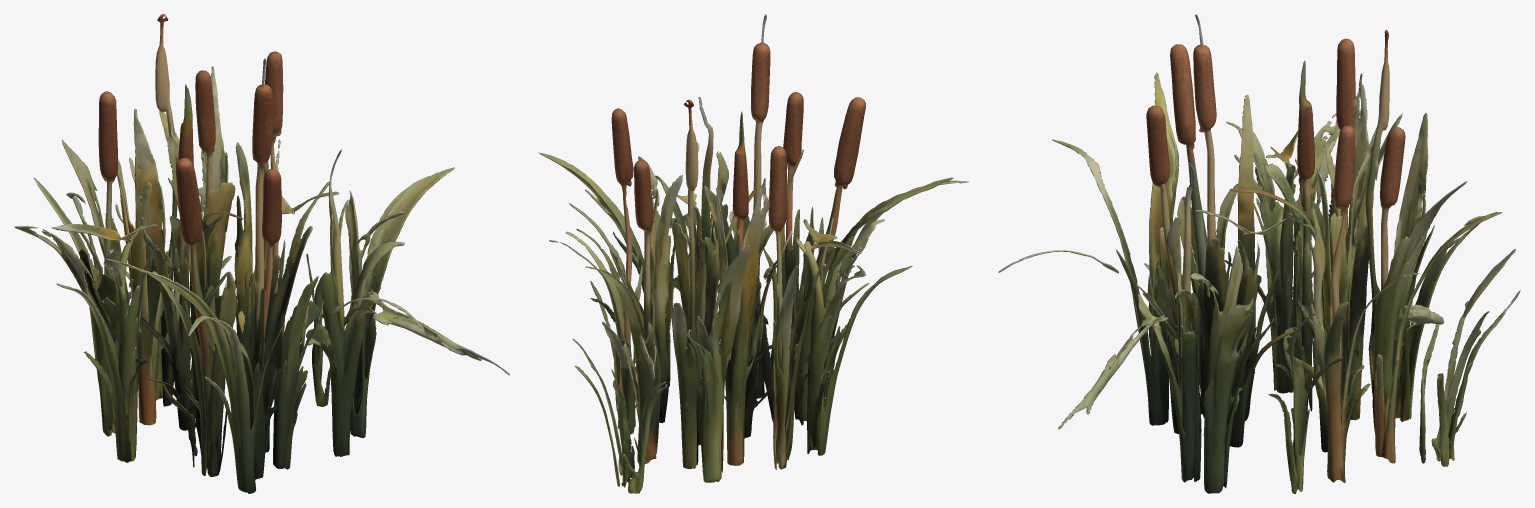
File: nature-reeds.glb
3 views of the same model, side by side, from view 1: azimuth 30°, elevation 25°; view 2: azimuth 150°, elevation 25°; view 3: azimuth 270°, elevation 25° (orthographic). The views are drawn at different scales.
Parts seen in each view (by area): view 1: tripo_node_be8c20d6-02ec-4e5e-b019-4e58db89057b; view 2: tripo_node_be8c20d6-02ec-4e5e-b019-4e58db89057b; view 3: tripo_node_be8c20d6-02ec-4e5e-b019-4e58db89057b.
Boxes of the visible parts, bbox=[...] form: tripo_node_be8c20d6-02ec-4e5e-b019-4e58db89057b: bbox=[14, 14, 509, 493]; tripo_node_be8c20d6-02ec-4e5e-b019-4e58db89057b: bbox=[538, 14, 969, 493]; tripo_node_be8c20d6-02ec-4e5e-b019-4e58db89057b: bbox=[998, 14, 1520, 493].
Size of the model in its own units: 1.97 by 2 by 2.16.
Materials: 1 (1 with a texture image).
